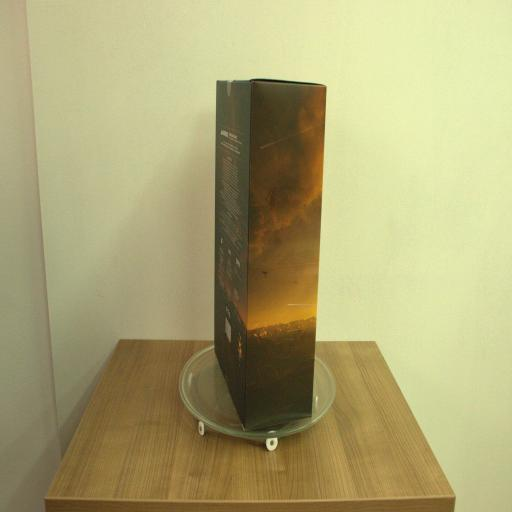superman: (215, 78, 326, 429)
